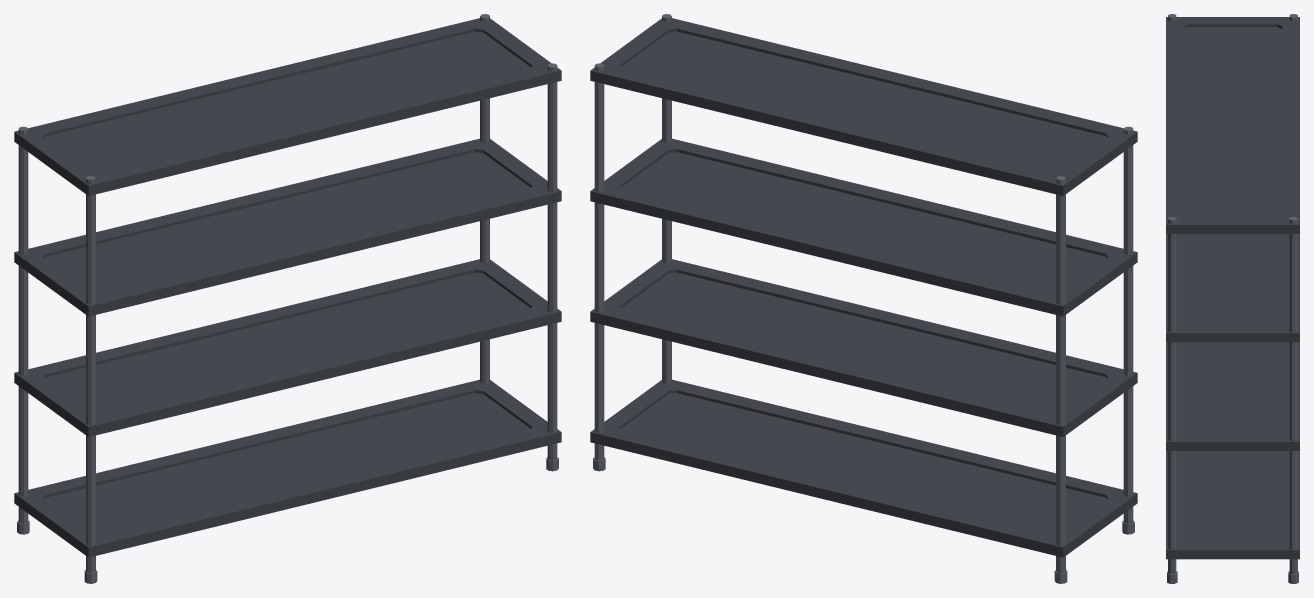
File: SM_Props_Rack_01.fbx
3 views of the same model, side by side, from view 1: azimuth 30°, elevation 25°; view 2: azimuth 150°, elevation 25°; view 3: azimuth 270°, elevation 25° (orthographic). The views are drawn at different scales.
Parts seen in each view (by area): view 1: SM_Props_Rack_01; view 2: SM_Props_Rack_01; view 3: SM_Props_Rack_01.
Part boxes in pixels (box(x1,y1,x2,y2)): SM_Props_Rack_01: box(14, 14, 561, 583); SM_Props_Rack_01: box(590, 14, 1137, 583); SM_Props_Rack_01: box(1166, 14, 1299, 583).
Size of the model in its own units: 3.07 by 2.5 by 0.8356.
